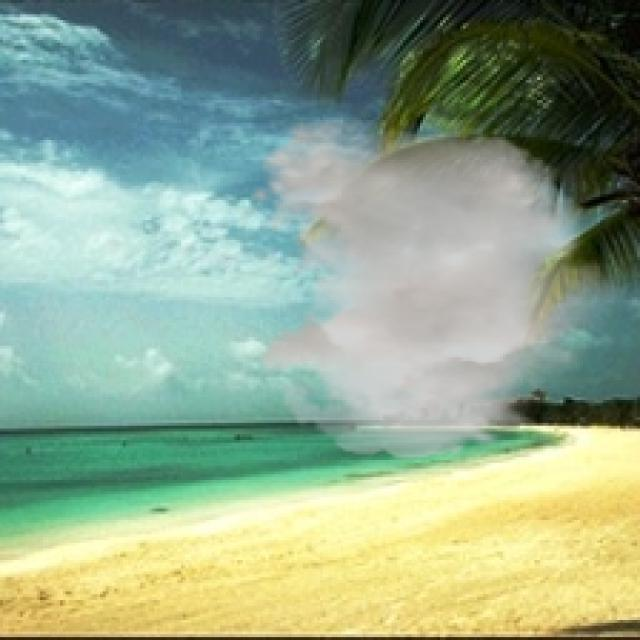Smoke: (246, 117, 634, 460)
